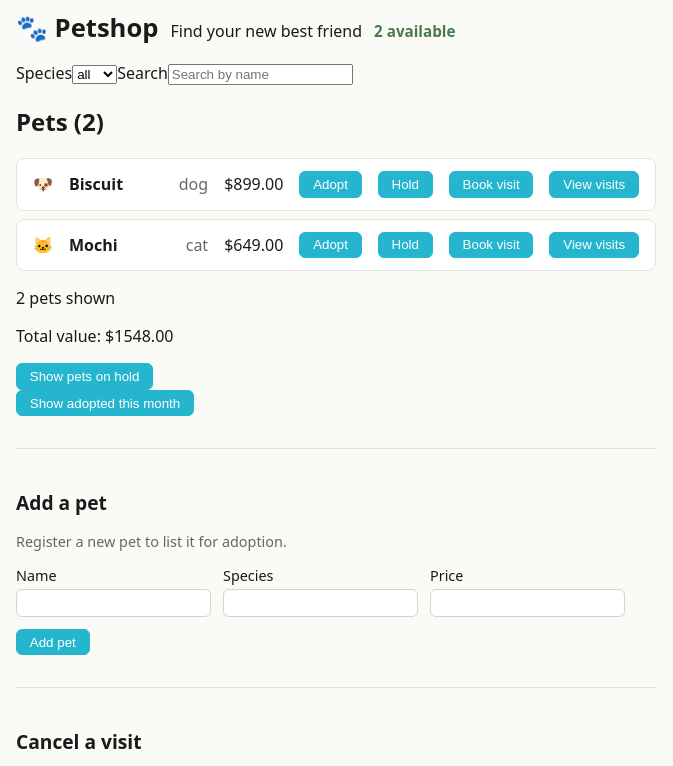
Scenario: App › updates the header available count after an adoption
Expected: the text "Biscuit" is shown, [69,173,123,195]
Expected: the text "2 available" is shown, [374,21,455,41]
What coordinates should you click on to do the following:
click the button "Adopt" in the row of "Mochi"
I would click on:
 (330, 245)
Its box is [299,232,362,258].
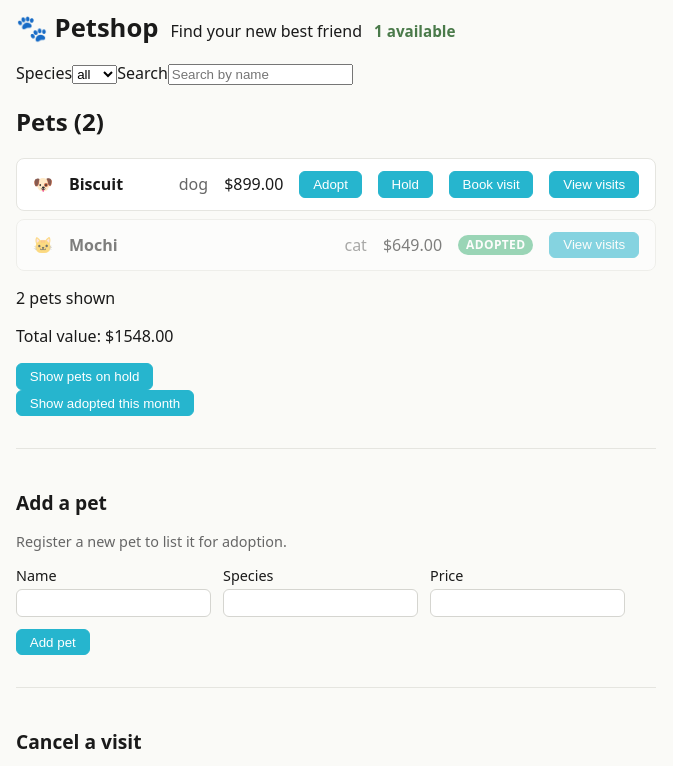
Expected: the text "1 available" is shown, [374,21,455,41]
